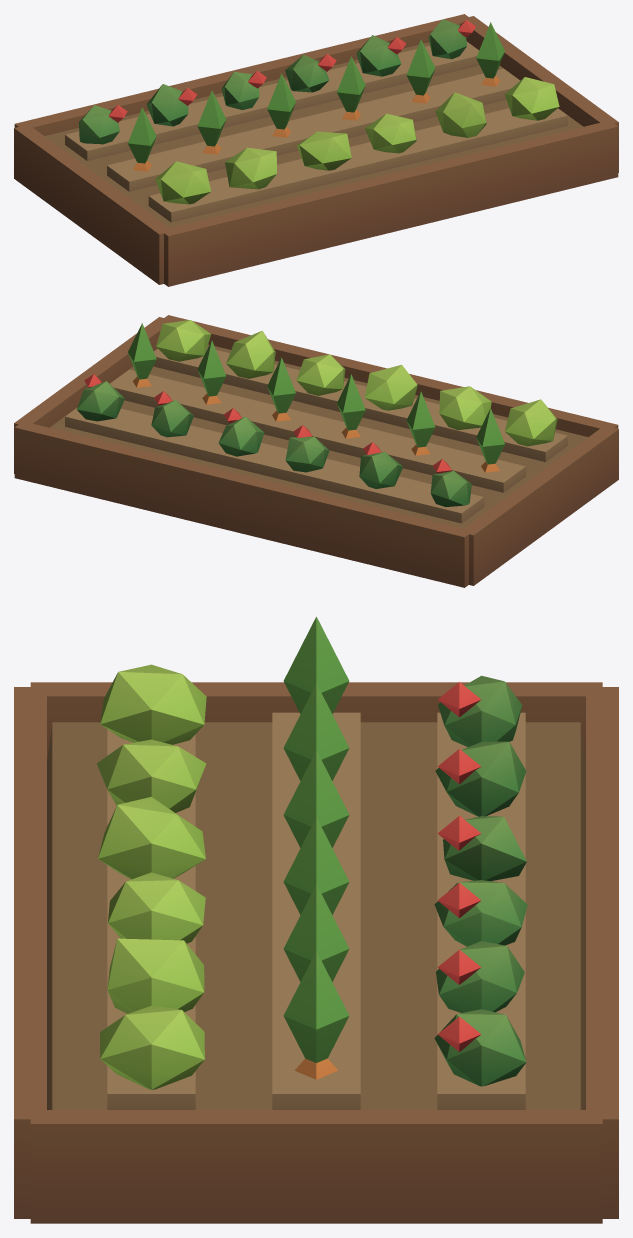
The model's file is garden_bed.glb.
3 views of the same model, one above another, from view 1: azimuth 30°, elevation 25°; view 2: azimuth 150°, elevation 25°; view 3: azimuth 270°, elevation 25° (orthographic). The views are drawn at different scales.
Parts seen in each view (by area): view 1: garden_bed; view 2: garden_bed; view 3: garden_bed.
Boxes of the visible parts, x1,y1,x2,y2 form: garden_bed: [14, 14, 618, 286]; garden_bed: [14, 315, 618, 587]; garden_bed: [14, 616, 618, 1223].
Bounding box in the file's own units: 9.5 × 2.3 × 5.5.
Materials: 1 (1 with a texture image).
